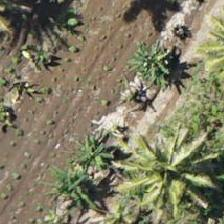coconut_tree: (119, 129, 209, 219)
